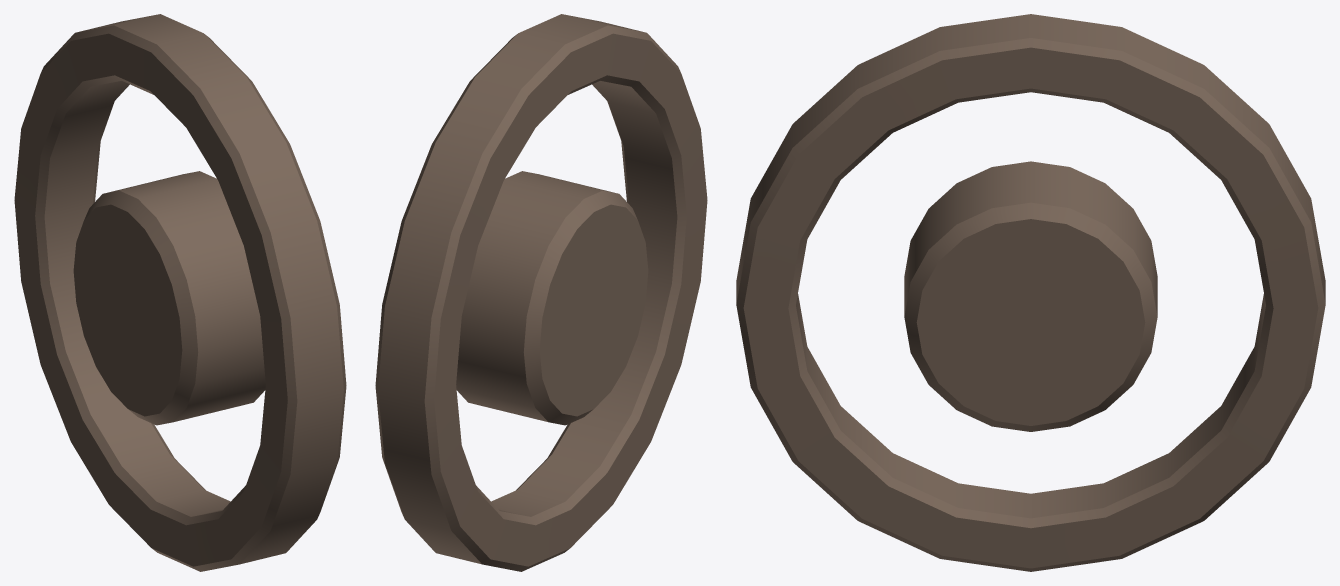
The model's file is WheelRoundParts.fbx.
3 renders of one model, left to right at view 1: azimuth 30°, elevation 25°; view 2: azimuth 150°, elevation 25°; view 3: azimuth 270°, elevation 25°, orthographic. The views are drawn at different scales.
Parts seen in each view (by area): view 1: pCylinder3, pCylinder4; view 2: pCylinder3, pCylinder4; view 3: pCylinder3, pCylinder4.
Boxes of the visible parts, box(x1,y1,x2,y2) form: pCylinder3: box(14, 14, 346, 571); pCylinder4: box(73, 171, 265, 425); pCylinder3: box(375, 14, 707, 571); pCylinder4: box(456, 171, 648, 425); pCylinder3: box(736, 14, 1325, 571); pCylinder4: box(904, 161, 1157, 431).
Bounding box in the file's own units: 9.09 × 43.92 × 43.92.
